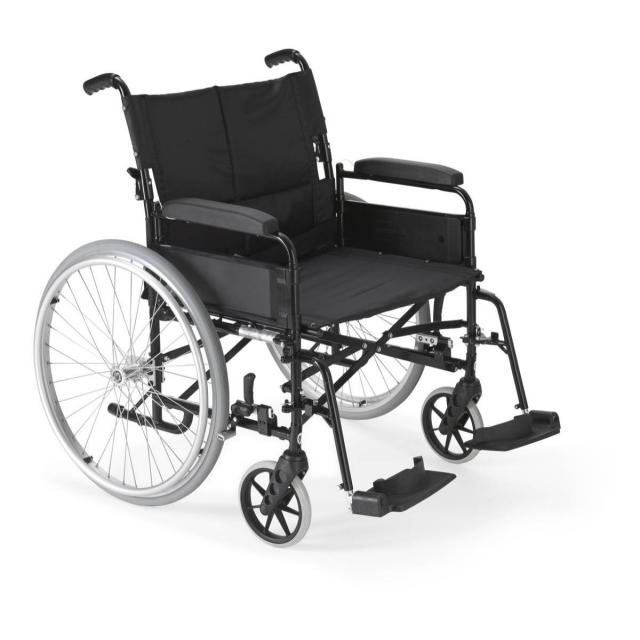wheelchair: (33, 42, 586, 550)
